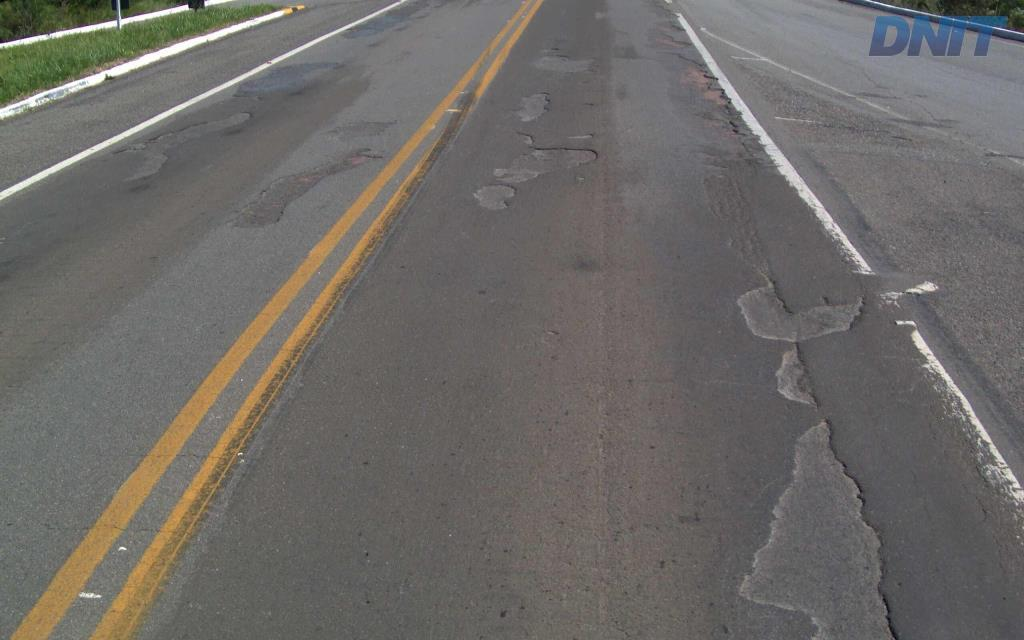pothole: (724, 411, 919, 638), (733, 265, 870, 409), (462, 127, 600, 214), (663, 52, 752, 141), (524, 44, 600, 74), (508, 87, 552, 124)
